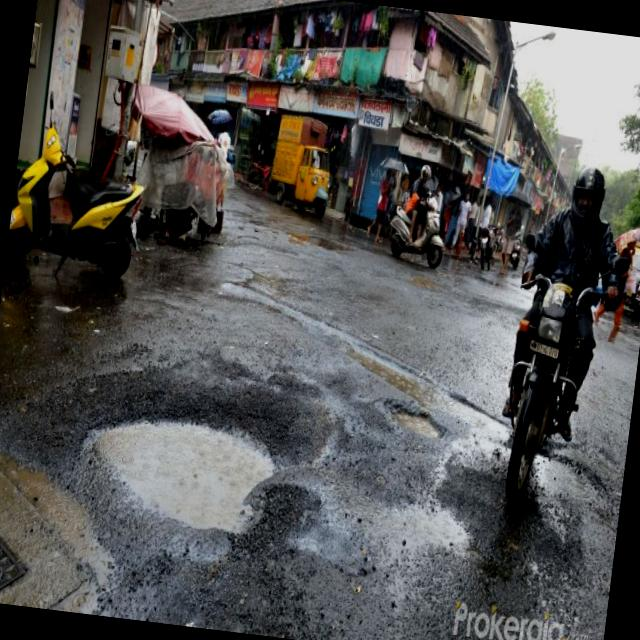bad-road: (73, 406, 282, 538), (379, 400, 450, 443)
